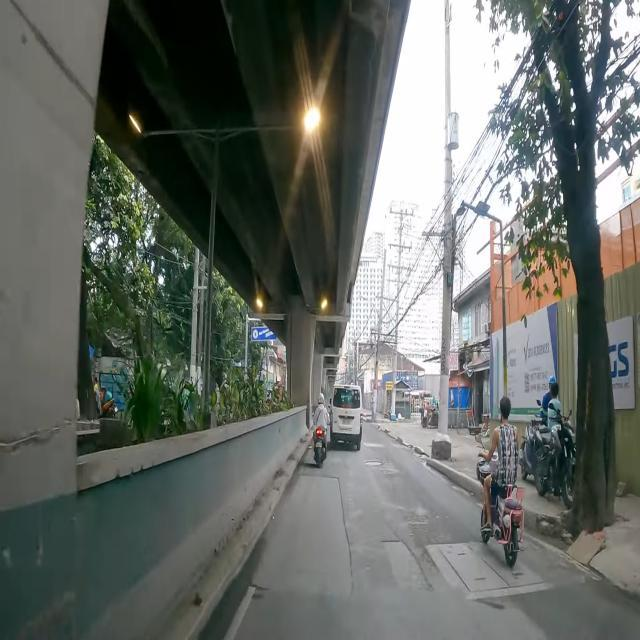car: (330, 384, 363, 450)
motorcycle: (478, 396, 524, 566), (539, 404, 576, 510), (519, 419, 552, 496), (312, 393, 329, 466)
